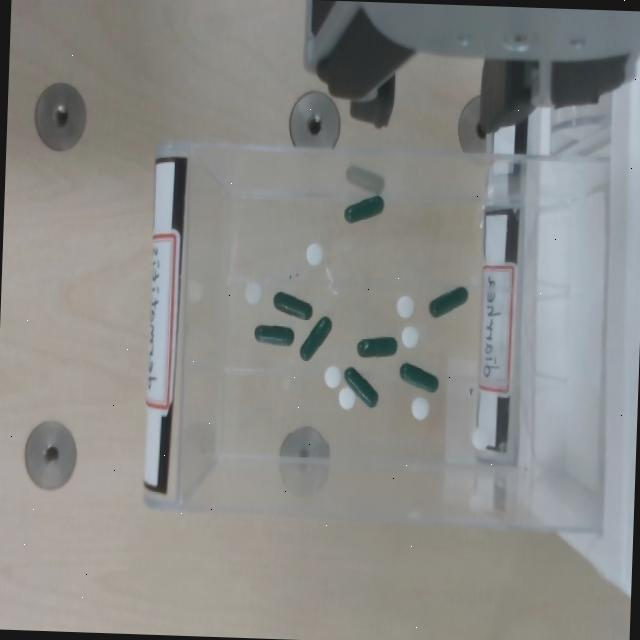ganakan_tab: (323, 363, 343, 391), (411, 395, 432, 421), (336, 385, 356, 412), (305, 241, 324, 266), (396, 295, 414, 319), (401, 326, 419, 350), (244, 282, 261, 305)
monodoxy_cap: (342, 367, 380, 411), (298, 316, 332, 364), (427, 284, 469, 320), (342, 194, 385, 226), (300, 317, 331, 361), (344, 368, 377, 408), (398, 362, 439, 394), (273, 291, 314, 322), (428, 287, 467, 317), (399, 363, 437, 392), (356, 334, 398, 360), (273, 292, 311, 320), (344, 196, 383, 223), (254, 323, 295, 347), (253, 325, 293, 346), (356, 338, 396, 357)
